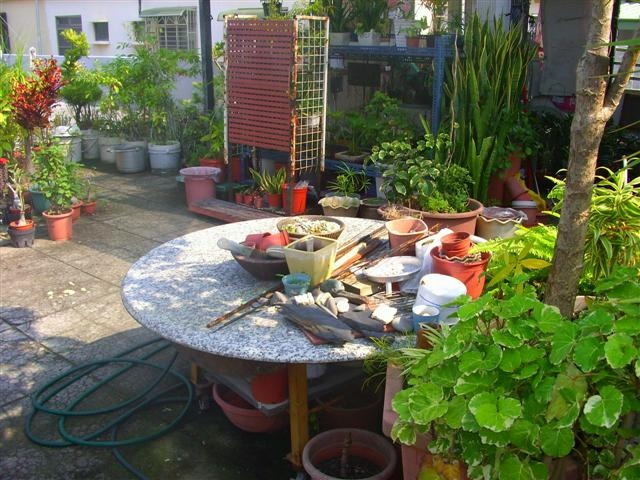bowl: (414, 272, 468, 326), (415, 273, 468, 328), (385, 216, 429, 256), (442, 232, 473, 250)
bucket: (281, 234, 341, 286), (179, 166, 221, 209), (114, 144, 147, 175)
plate: (364, 256, 424, 284)
